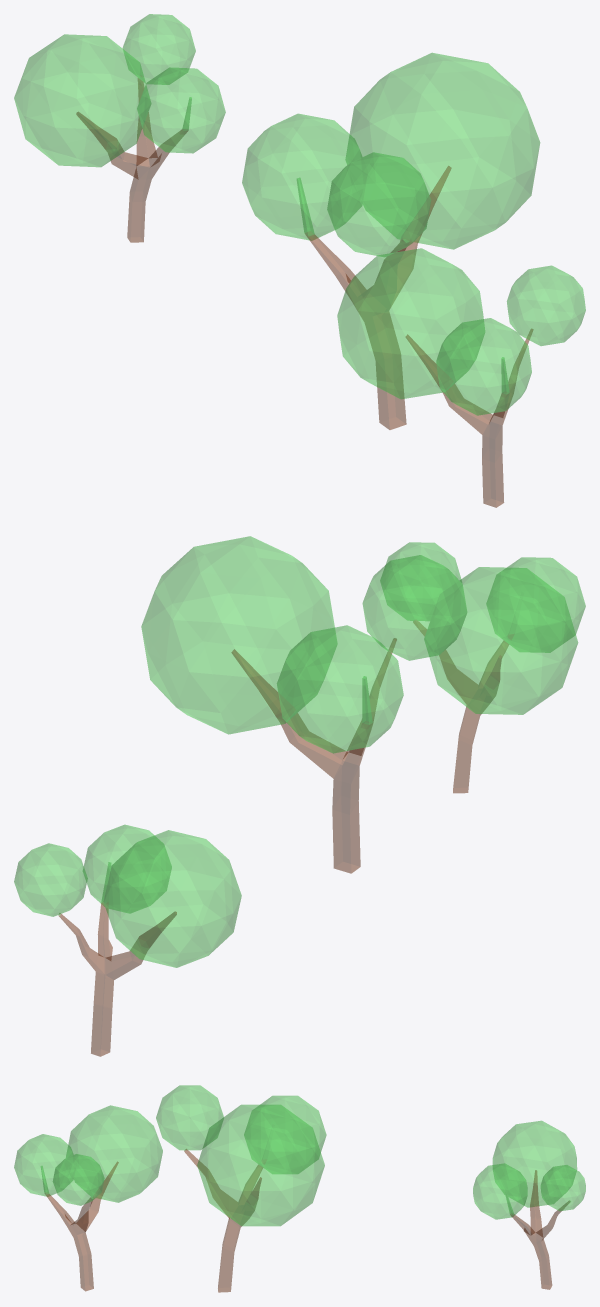
The model's file is Fade_Trees.fbx.
The picture shows the model from 3 angles, top to bottom: view 1: azimuth 30°, elevation 25°; view 2: azimuth 150°, elevation 25°; view 3: azimuth 270°, elevation 25°; orthographic projection. The views are drawn at different scales.
Parts seen in each view (by area): view 1: Tree; view 2: Tree; view 3: Tree.
Part boxes in pixels (x1,y1,x2,y2): Tree: [14, 14, 585, 507]; Tree: [14, 536, 585, 1056]; Tree: [14, 1085, 585, 1292].
Size of the model in its own units: 525 by 554 by 1381.
